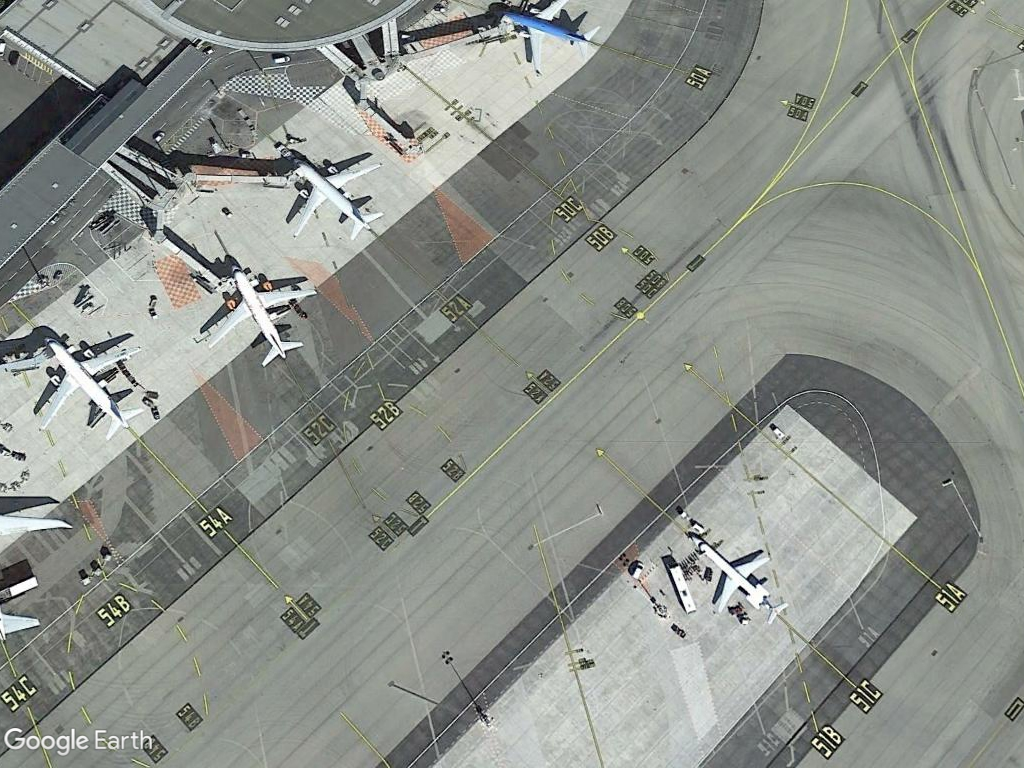airliner: (194, 262, 318, 370), (25, 334, 145, 445), (282, 155, 386, 245)
chartered: (688, 533, 777, 617)
